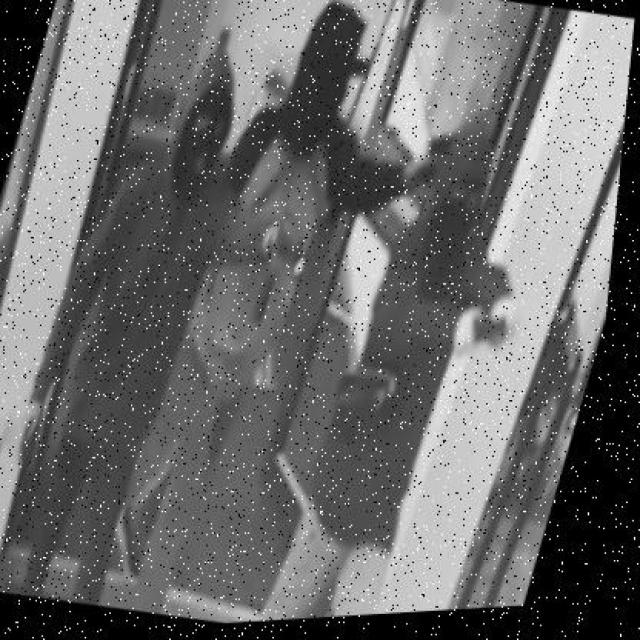weapon: (471, 303, 512, 346), (418, 134, 452, 184), (271, 221, 307, 267)
